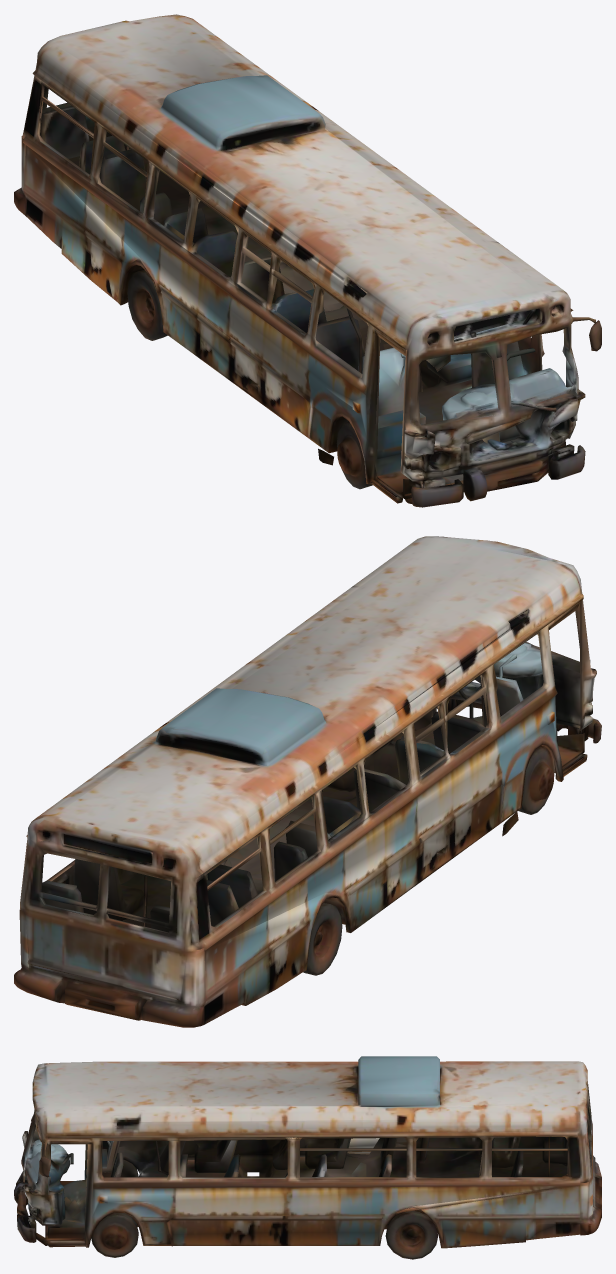
The model's file is Bus_junk_1.glb.
3 views of the same model, one above another, from view 1: azimuth 30°, elevation 25°; view 2: azimuth 150°, elevation 25°; view 3: azimuth 270°, elevation 25° (orthographic). The views are drawn at different scales.
Visible parts, largest first — view 1: material; view 2: material; view 3: material.
Part boxes in pixels (<box>): material: <box>14,14,601,507</box>; material: <box>14,536,601,1027</box>; material: <box>14,1056,601,1259</box>.
Bounding box in the file's own units: 0.5604 × 0.5741 × 1.9.
Materials: 1 (1 with a texture image).
